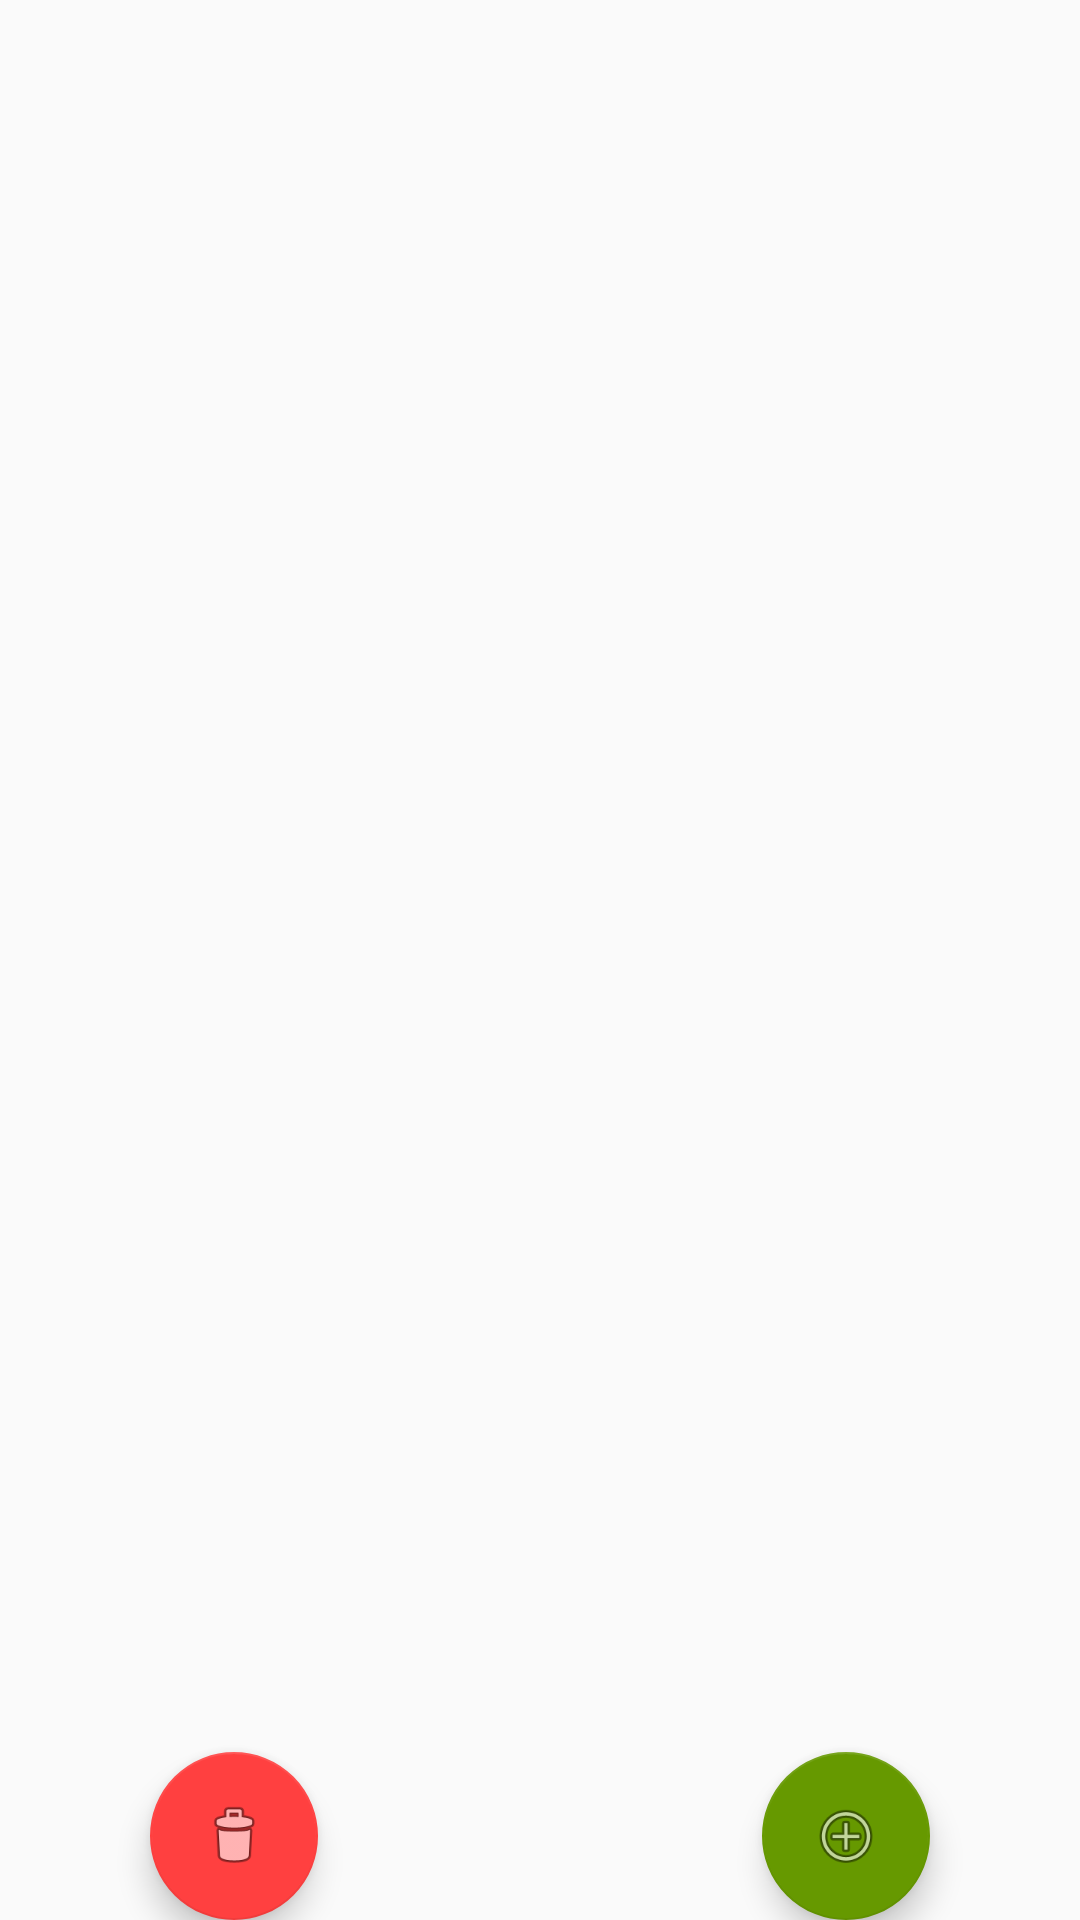

Named icons in this screenshot (1080×1920) and their centers, (x=x, y=y):
add: (x=846, y=1836)
delete: (x=234, y=1836)
